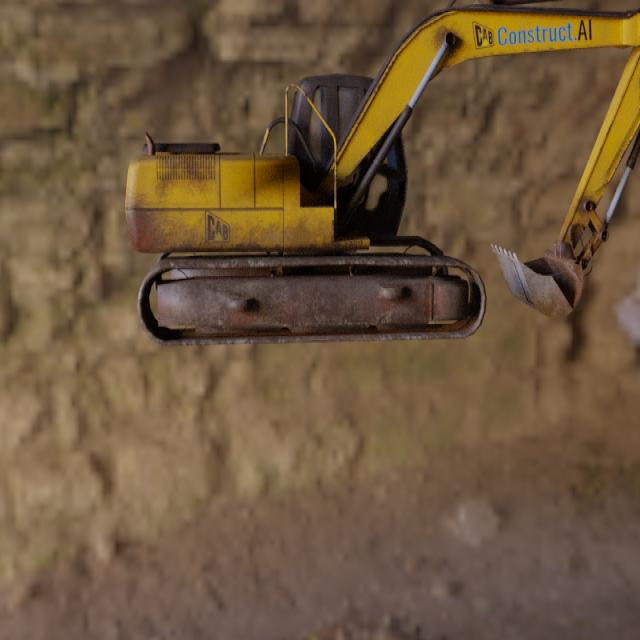excavator: (124, 0, 640, 347)
